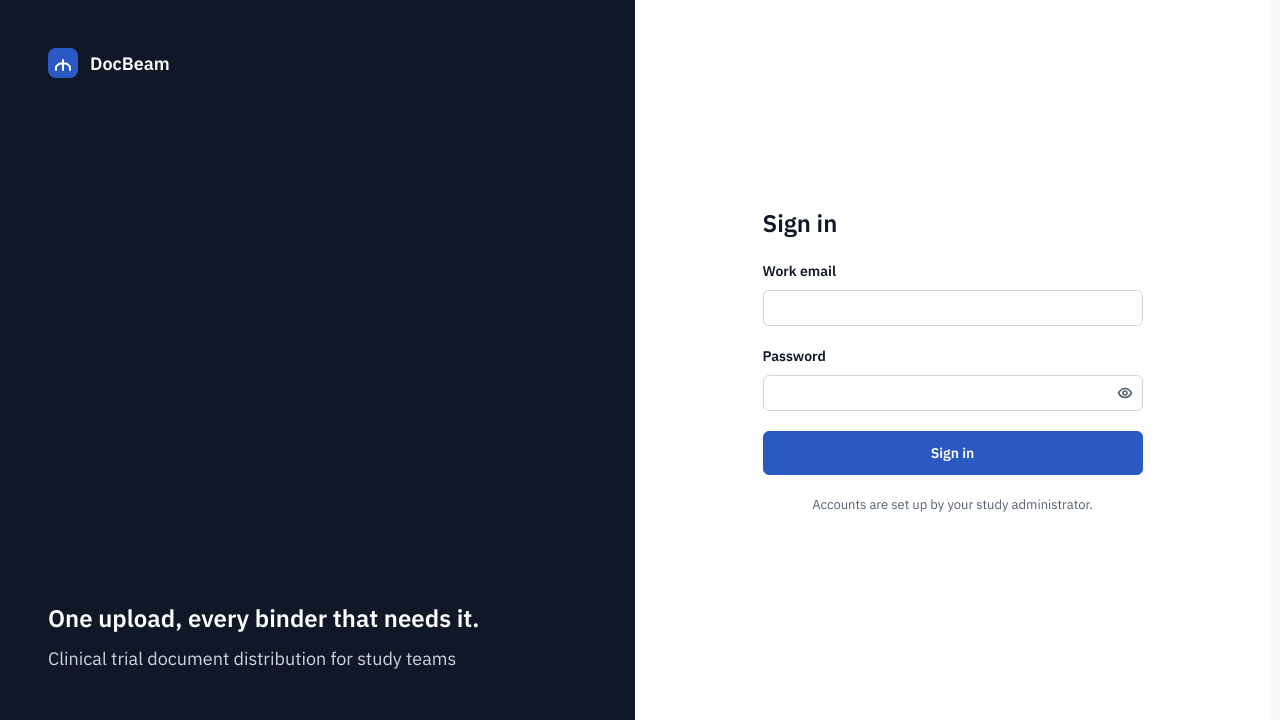
the sign-in pause note (D-M3-13) › shows the same fixed line under the gateway throttle
In the field labelled "Work email": (952, 308) top-left (762, 290), bottom-right (1142, 326), type "someone@example.com"
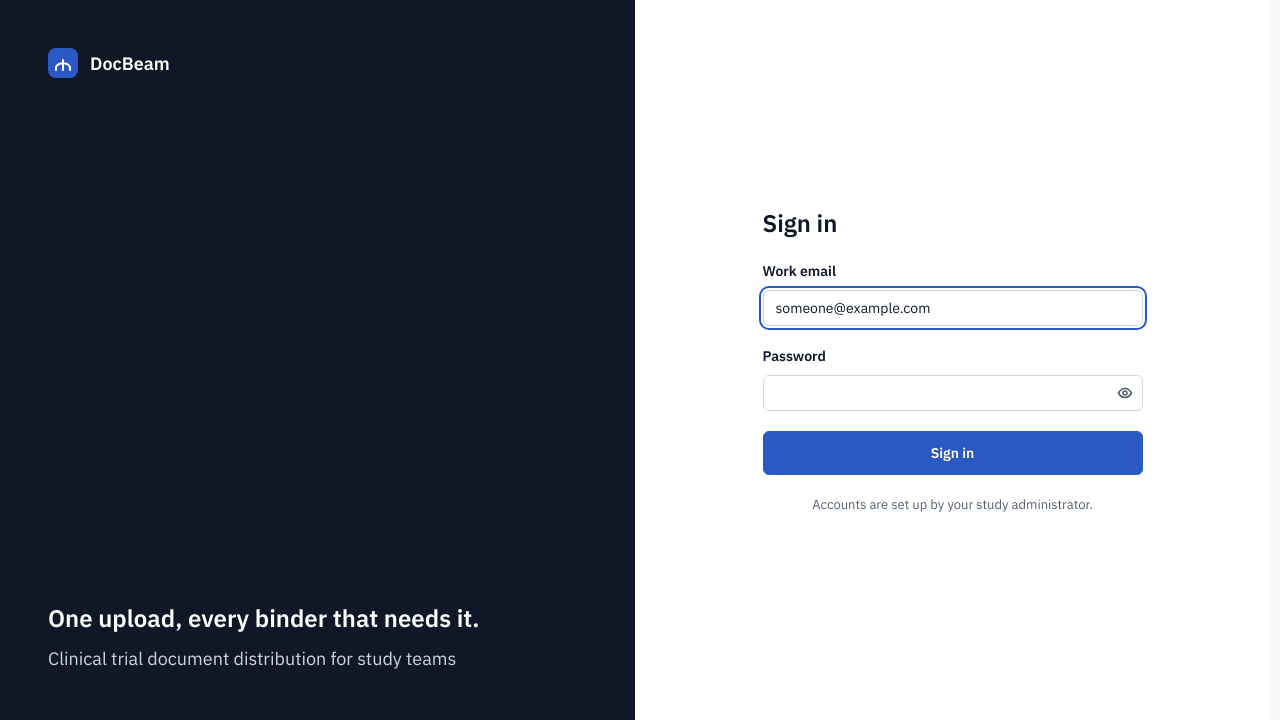
In the password field labelled "Password": (952, 393) top-left (762, 375), bottom-right (1142, 411), type "not-the-password"
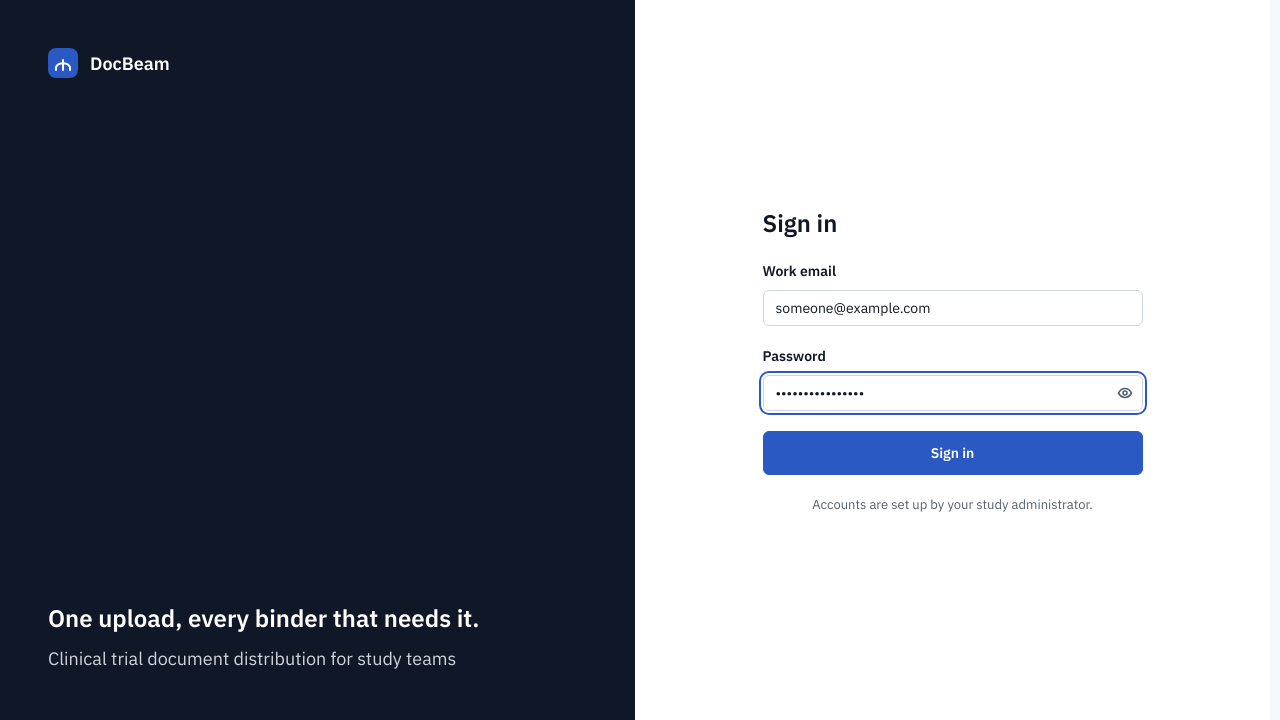
Click the button "Sign in": (952, 453) top-left (762, 431), bottom-right (1142, 475)
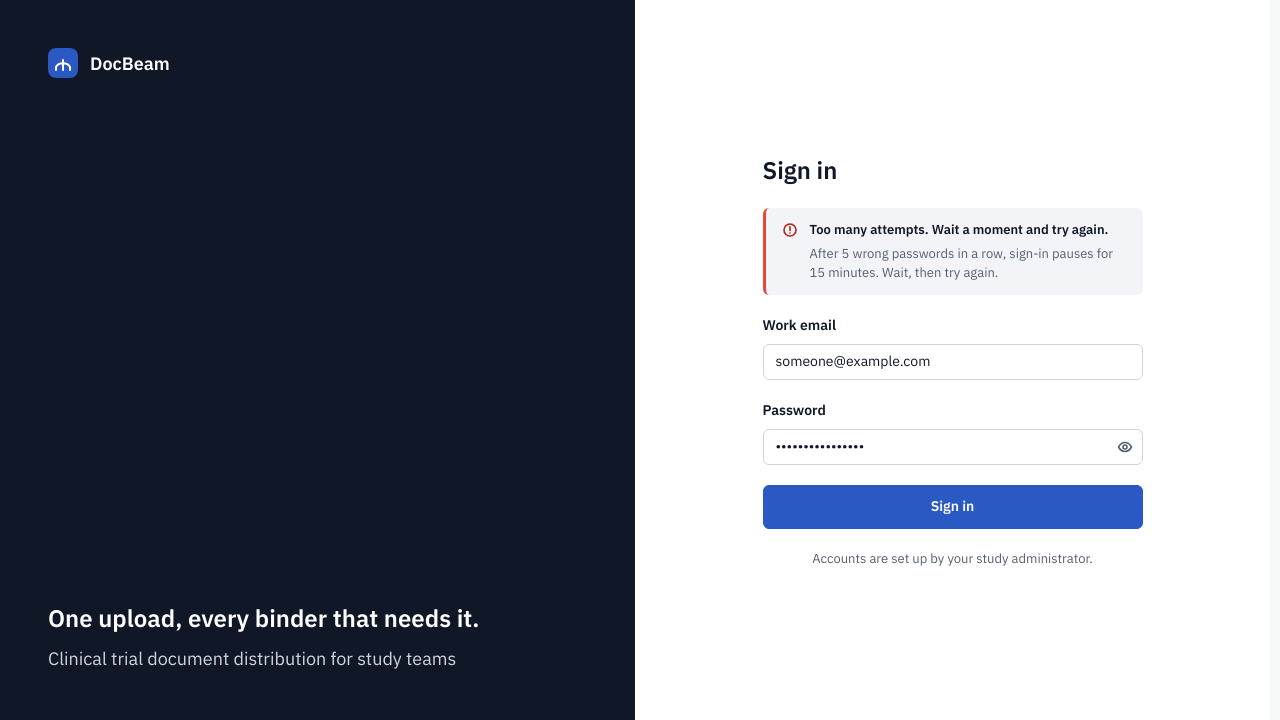
Check: the message shows "Too many attempts. Wait a moment and try again.", box top-left (810, 221), bottom-right (1108, 238)
Check: the text with test id "pause-note" shows "After 5 wrong passwords in a row, sign-in pauses for 15 minutes. Wait, then try again.", box top-left (810, 244), bottom-right (1113, 281)
